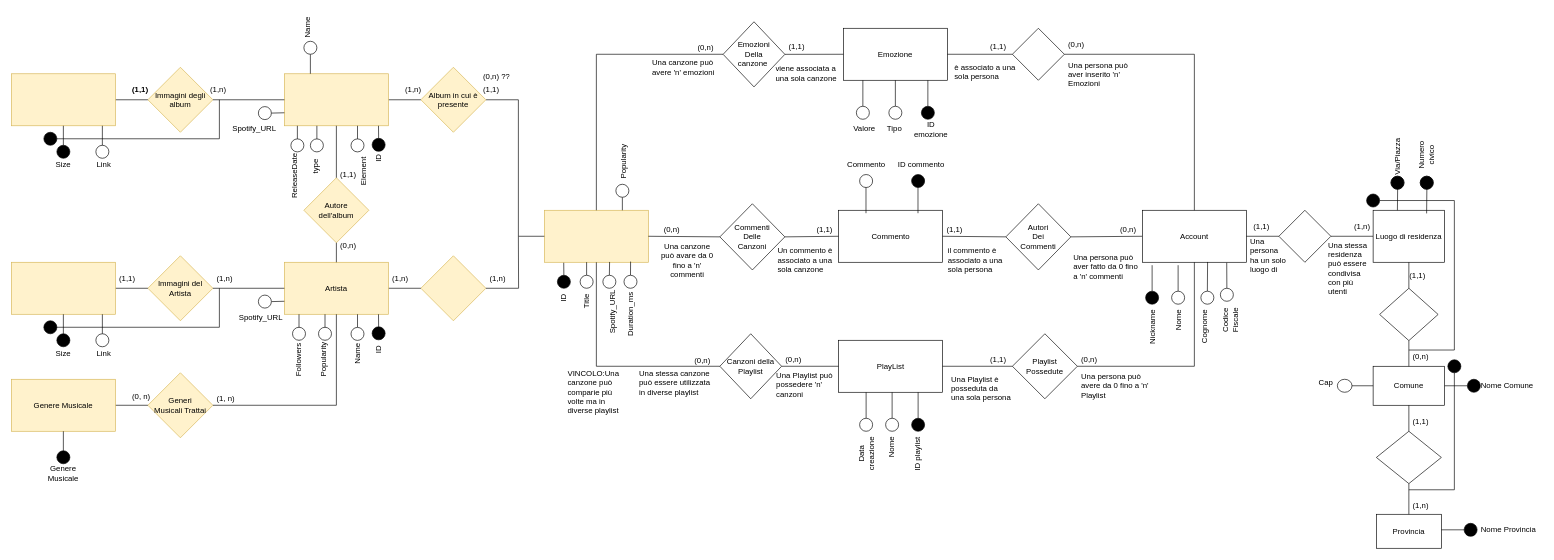
Some shapes in this 1554 by 560 pixel diagram are drawn without their labels. The centre of each missing label's shape, as x and y in pixels:
Album: point 336,99
Autori della canzone: point 453,288
Comune di residenza: point 1408,314
Emozioni create: point 1038,54
Immagini Album: point 63,99
Immagini artisti: point 63,288
Provincia di appartenenza: point 1408,457
Residente: point 1304,236
Song: point 596,236
